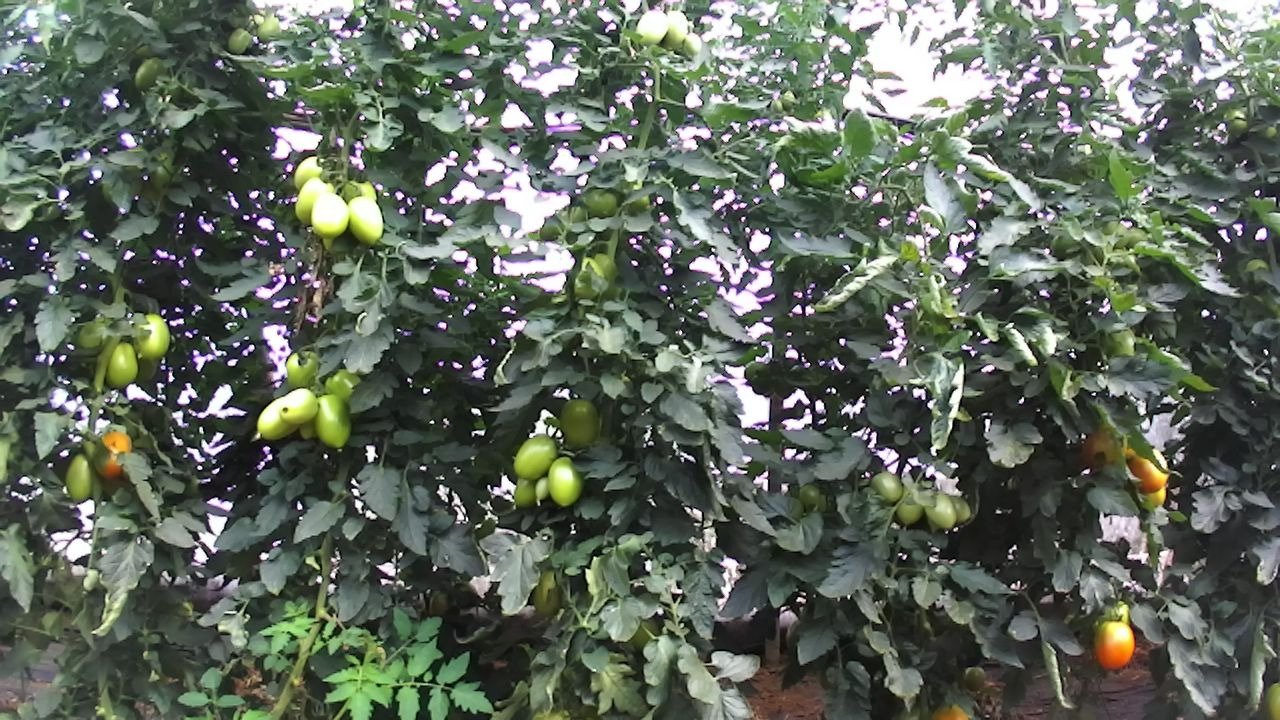tomato: (291, 172, 339, 229), (311, 391, 354, 450), (1092, 615, 1136, 672), (1124, 442, 1171, 494), (92, 428, 135, 483), (511, 431, 558, 481), (557, 395, 601, 448), (130, 309, 174, 362), (547, 454, 589, 509), (307, 189, 350, 240), (345, 193, 384, 249), (62, 450, 96, 507), (103, 340, 140, 390), (277, 385, 320, 426), (631, 7, 672, 47), (291, 151, 330, 192), (921, 488, 957, 531), (511, 470, 544, 510), (868, 469, 902, 504), (662, 5, 690, 47), (947, 492, 973, 527), (532, 474, 554, 505), (797, 481, 822, 506), (681, 31, 702, 59)
